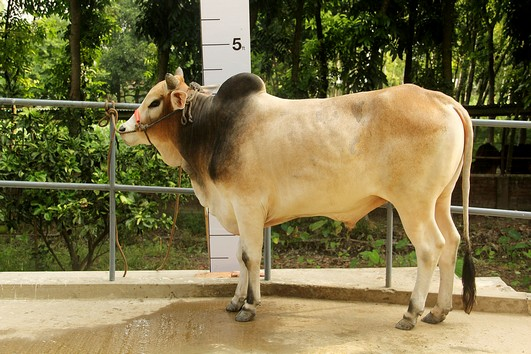cow: (113, 61, 482, 332)
